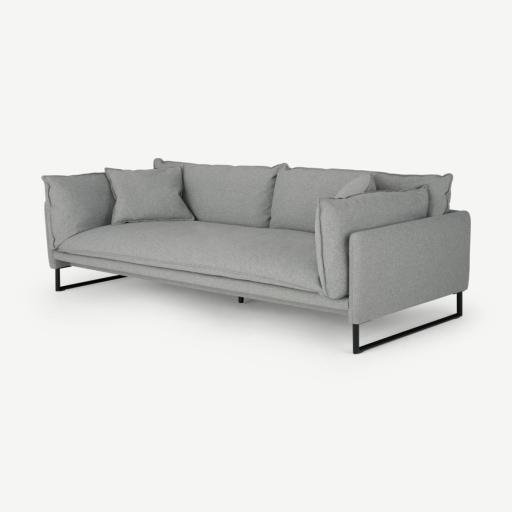back_cushion: (154, 158, 452, 232)
left_arm: (349, 211, 470, 327)
legs: (353, 292, 462, 354), (55, 269, 127, 291)
one-seater: (0, 0, 511, 512)
right_arm: (42, 173, 114, 267)
seat_cushion: (56, 221, 321, 294)
